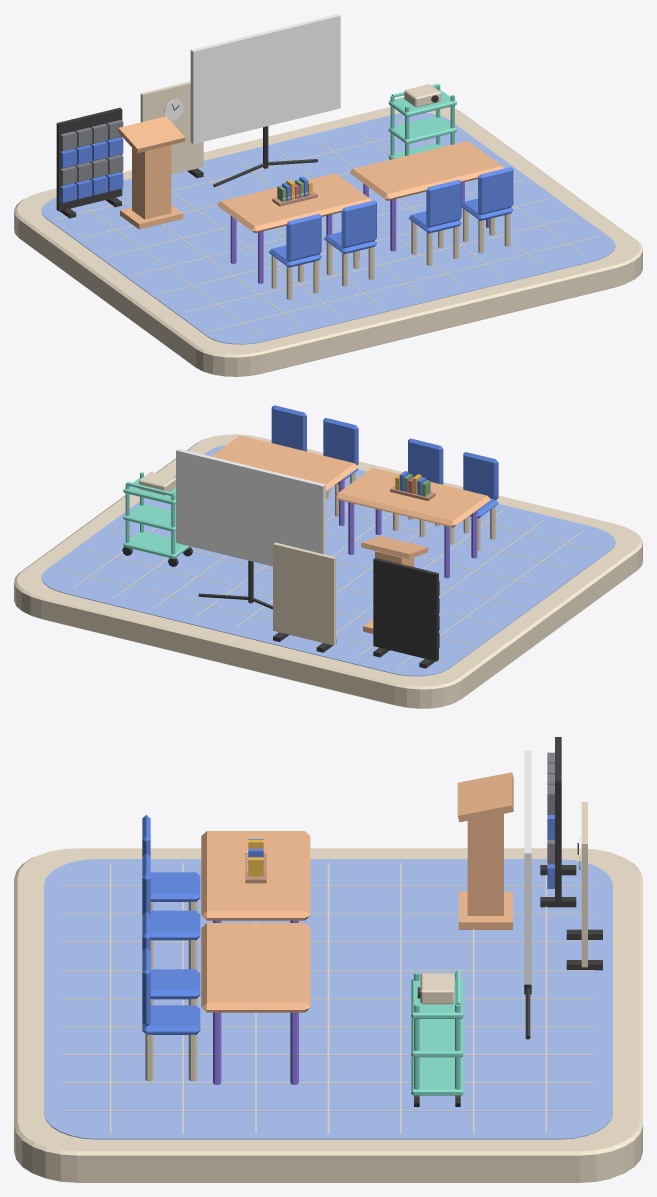
The model's file is room.fbx.
The picture shows the model from 3 angles, top to bottom: view 1: azimuth 30°, elevation 25°; view 2: azimuth 150°, elevation 25°; view 3: azimuth 270°, elevation 25°; orthographic projection. The views are drawn at different scales.
Parts seen in each view (by area): view 1: COM-02 Floor Surface, COM-01 Rounded Base Direct, Screen, Rounded table top.001, Rounded table top, Body, Panel.001, Panel, Reading top, Backrest.003, Backrest, Backrest.002 (+6 smaller); view 2: COM-02 Floor Surface, COM-01 Rounded Base Direct, Screen, Panel, Panel.001, Rounded table top, Rounded table top.001, Backrest, Backrest.002, Backrest.003, Backrest.001, Tray (+4 smaller); view 3: COM-02 Floor Surface, COM-01 Rounded Base Direct, Rounded table top.001, Rounded table top, Body, Reading top, Screen, Tray.001, Tray, Seat.003, Seat.001, Seat.002 (+14 smaller).
Boxes of the visible parts, bbox=[...] form: COM-02 Floor Surface: bbox=[41, 112, 615, 344]; COM-01 Rounded Base Direct: bbox=[14, 106, 642, 376]; Screen: bbox=[190, 14, 340, 144]; Rounded table top.001: bbox=[350, 141, 504, 200]; Rounded table top: bbox=[217, 173, 372, 233]; Body: bbox=[132, 145, 171, 219]; Panel.001: bbox=[140, 81, 203, 174]; Panel: bbox=[56, 107, 122, 211]; Reading top: bbox=[118, 116, 185, 153]; Backrest.003: bbox=[478, 167, 513, 214]; Backrest: bbox=[286, 214, 321, 261]; Backrest.002: bbox=[426, 179, 461, 227]; COM-02 Floor Surface: bbox=[41, 445, 615, 676]; COM-01 Rounded Base Direct: bbox=[14, 434, 642, 708]; Screen: bbox=[176, 448, 325, 566]; Panel: bbox=[373, 558, 438, 661]; Panel.001: bbox=[273, 542, 335, 645]; Rounded table top: bbox=[335, 468, 490, 527]; Rounded table top.001: bbox=[211, 435, 357, 491]; Backrest: bbox=[463, 452, 498, 499]; Backrest.002: bbox=[323, 418, 358, 464]; Backrest.003: bbox=[271, 405, 306, 451]; Backrest.001: bbox=[408, 438, 443, 484]; Tray: bbox=[123, 531, 190, 558]; COM-02 Floor Surface: bbox=[44, 859, 612, 1139]; COM-01 Rounded Base Direct: bbox=[14, 848, 642, 1182]; Rounded table top.001: bbox=[201, 923, 310, 1012]; Rounded table top: bbox=[201, 831, 310, 920]; Body: bbox=[467, 814, 503, 915]; Reading top: bbox=[457, 772, 513, 822]; Screen: bbox=[524, 751, 531, 984]; Tray.001: bbox=[411, 1018, 463, 1057]; Tray: bbox=[411, 1056, 463, 1095]; Seat.003: bbox=[142, 1005, 200, 1034]; Seat.001: bbox=[150, 910, 200, 940]; Seat.002: bbox=[150, 969, 200, 999].
Size of the model in its own units: 600 by 214 by 520.
